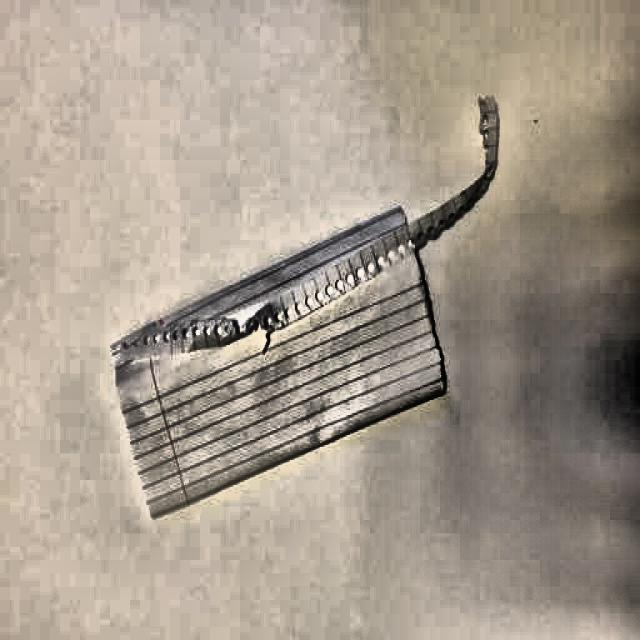paper: (111, 99, 498, 515)
